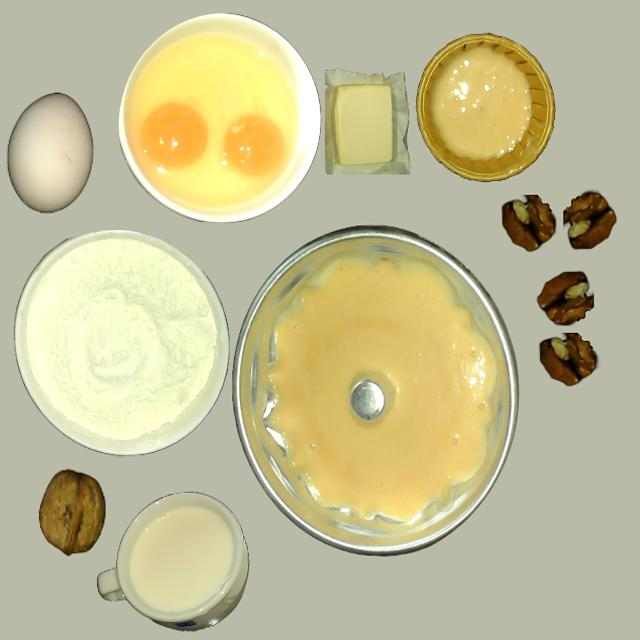Egg: (140, 102, 208, 170), (223, 114, 284, 177)
Flour: (25, 239, 216, 444)
Sugar: (128, 504, 236, 614)
Walnut: (39, 470, 106, 554)
